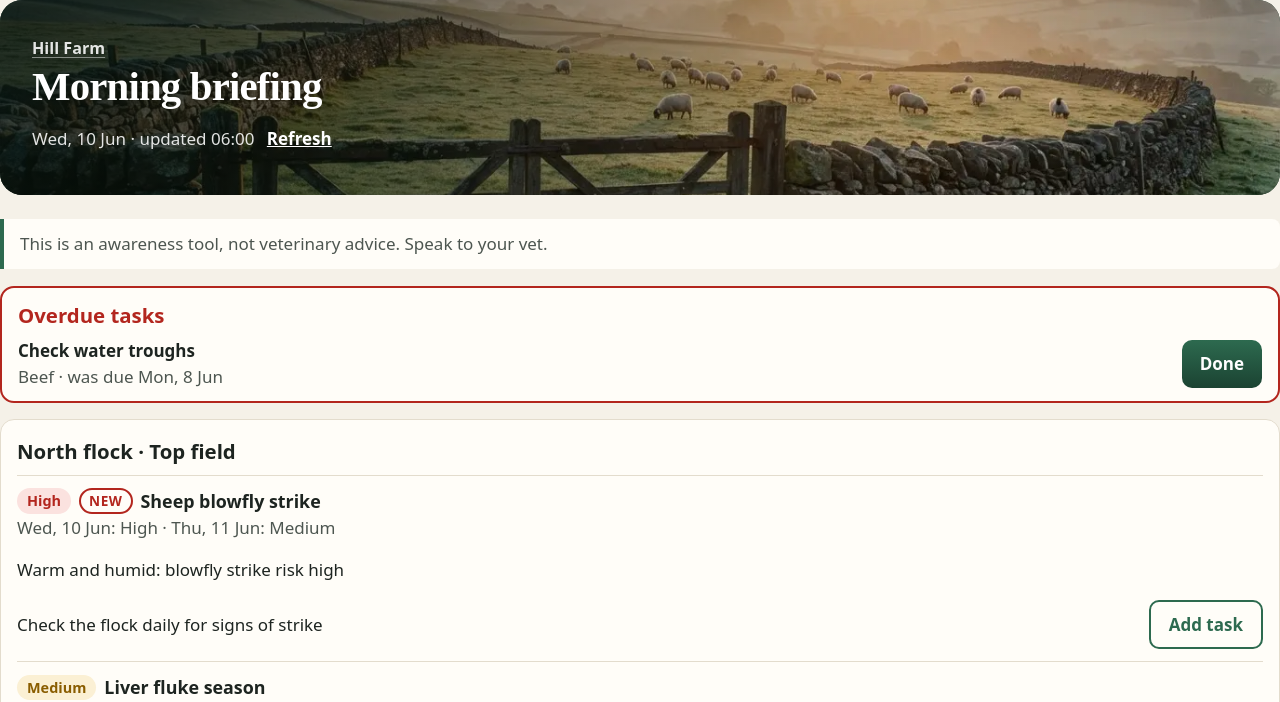
Test: BriefingPage actions › turns a suggested check into a task with one tap (FR-5.2)
Click the button named "Add task: Check the flock daily for signs of strike" at {"x": 1206, "y": 624}, box [1149,600,1263,649]
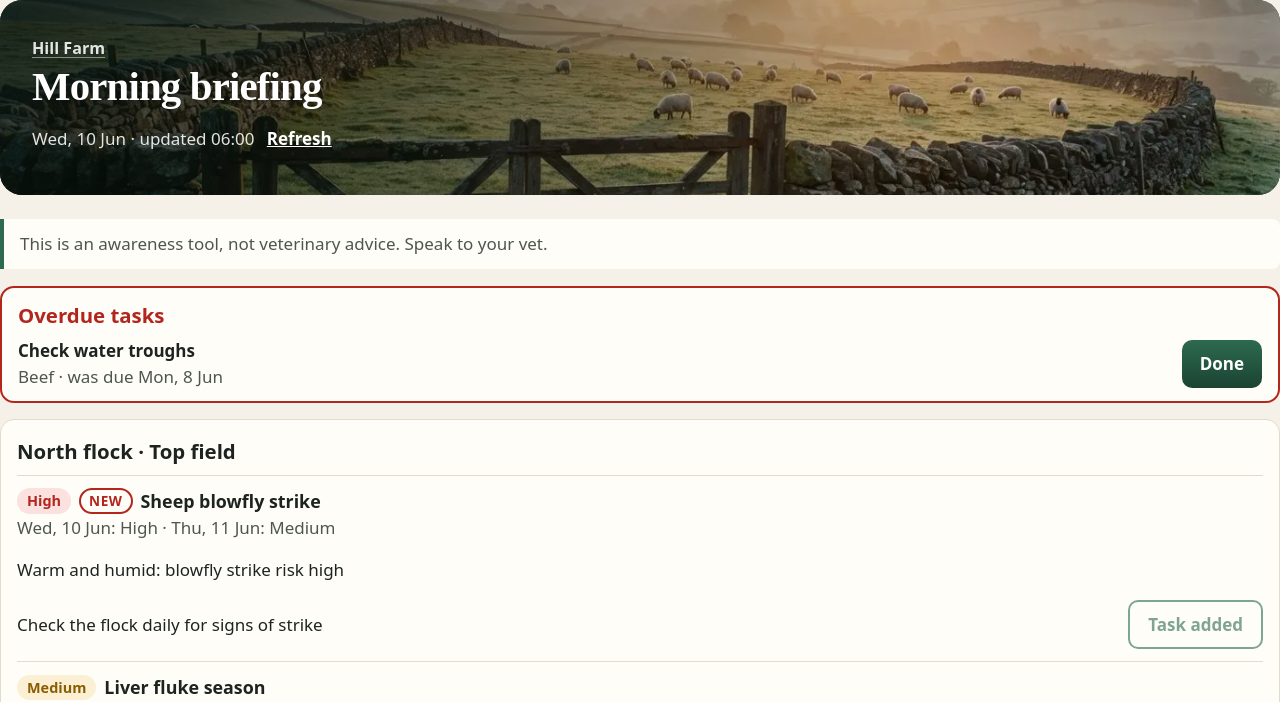
Result: the button named "Task added: Check the flock daily for signs of strike" is disabled at [1128,600,1263,649]
